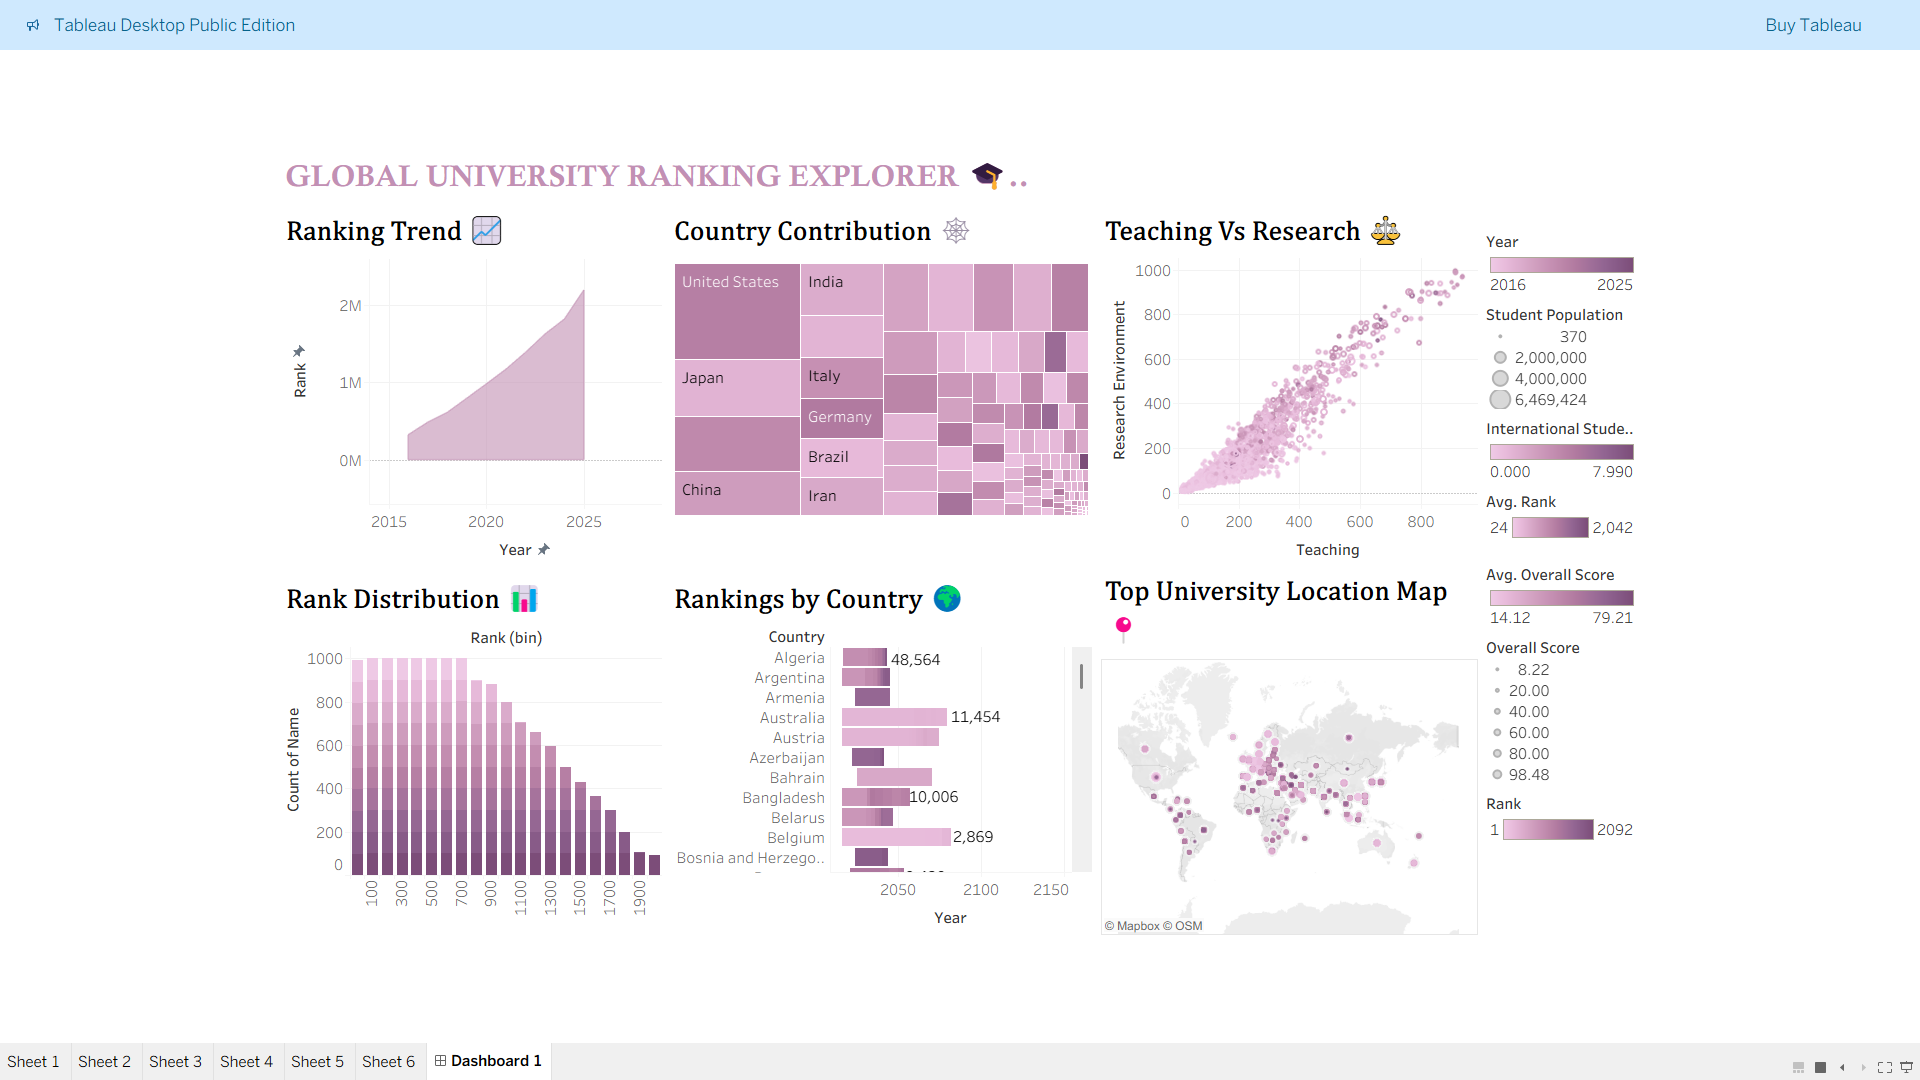

The page's visual inventory and layout, read from the dashboard file:
{"tool":"tableau","page":{"name":"Dashboard 1","canvas":[1357,801],"ordinal":0},"visuals":[{"type":"title","box":[8,8,1341,50]},{"type":"worksheet","title":"Sheet 1","mark":"Area","rows":["Rank"],"cols":["Year"],"box":[8,58,381,367.5]},{"type":"worksheet","title":"Sheet 5","mark":"Automatic","box":[389,58,422,367.5]},{"type":"worksheet","title":"Sheet 3","mark":"Automatic","rows":["Research Environment"],"cols":["Teaching"],"box":[811,58,378,367.5]},{"type":"legend","title":"Sheet 2","param":"[federated.07ow36v0bluxqz18zb4w31v5pcj0].[none:Overall Score:qk]","box":[1189,58,160,24]},{"type":"legend","title":"Sheet 2","param":"[federated.07ow36v0bluxqz18zb4w31v5pcj0].[none:Name:nk]","box":[1189,82,160,156]},{"type":"legend","title":"Sheet 3","param":"[federated.07ow36v0bluxqz18zb4w31v5pcj0].[sum:Student Population:qk]","box":[1189,238,160,114]},{"type":"legend","title":"Sheet 3","param":"[federated.07ow36v0bluxqz18zb4w31v5pcj0].[sum:International Students:qk]","box":[1189,352,160,73]},{"type":"legend","title":"Sheet 4","param":"[federated.07ow36v0bluxqz18zb4w31v5pcj0].[avg:Rank:qk]","box":[1189,425,160,73]},{"type":"worksheet","title":"Sheet 2","mark":"Pie","rows":["Rank"],"cols":["Year"],"box":[8,425.5,381,367.5]},{"type":"worksheet","title":"Sheet 4","mark":"Automatic","rows":["Country"],"cols":["Year"],"box":[389,425.5,800,367.5]},{"type":"legend","title":"Sheet 5","param":"[federated.07ow36v0bluxqz18zb4w31v5pcj0].[avg:Overall Score:qk]","box":[1189,498,160,73]}]}

Visuals, with their boxes on the page's 1357x801 design canvas (x1, y1, x2, y2). These are canvas units, not pixel positions in the 1920x1080 screenshot, which may show the page scaled, cropped or inside an application window:
title: <box>8,8,1349,58</box>
"Sheet 1" worksheet (Area marks): <box>8,58,389,426</box>
"Sheet 5" worksheet: <box>389,58,811,426</box>
"Sheet 3" worksheet: <box>811,58,1189,426</box>
"Sheet 2" legend: <box>1189,58,1349,82</box>
"Sheet 2" legend: <box>1189,82,1349,238</box>
"Sheet 3" legend: <box>1189,238,1349,352</box>
"Sheet 3" legend: <box>1189,352,1349,425</box>
"Sheet 4" legend: <box>1189,425,1349,498</box>
"Sheet 2" worksheet (Pie marks): <box>8,426,389,793</box>
"Sheet 4" worksheet: <box>389,426,1189,793</box>
"Sheet 5" legend: <box>1189,498,1349,571</box>
